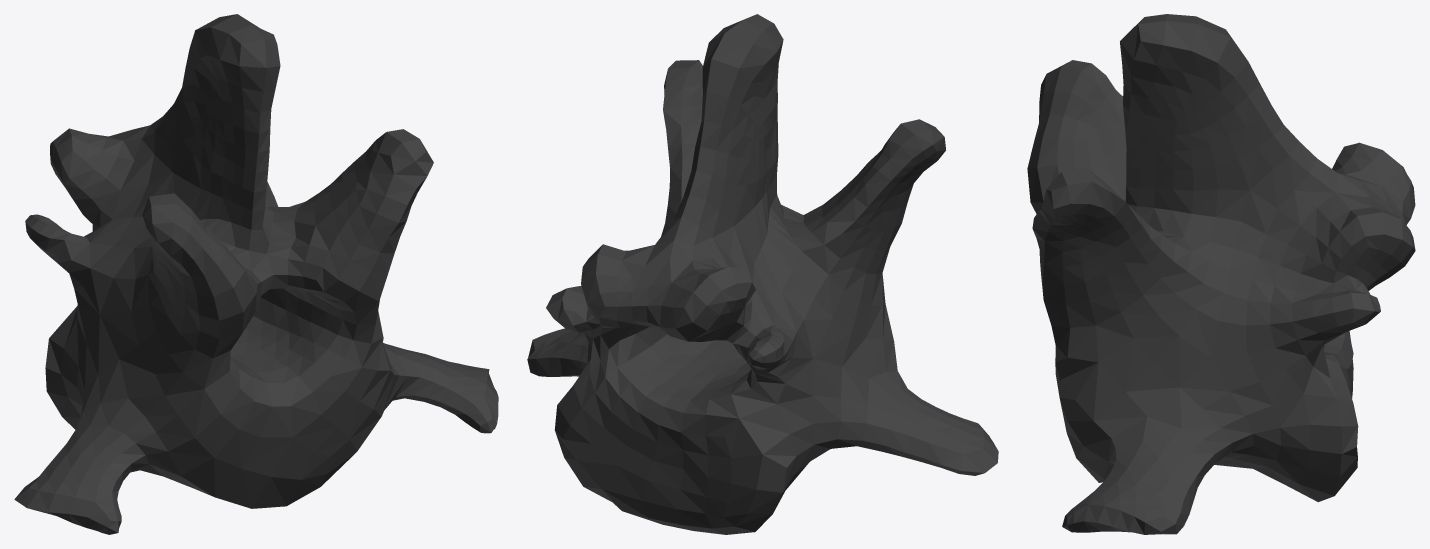
3 views of the same model, side by side, from view 1: azimuth 30°, elevation 25°; view 2: azimuth 150°, elevation 25°; view 3: azimuth 270°, elevation 25° (orthographic). The views are drawn at different scales.
Parts seen in each view (by area): view 1: L1; view 2: L1; view 3: L1.
Boxes of the visible parts, left/top/right/bottom form: L1: left=14, top=14, right=498, bottom=534; L1: left=527, top=14, right=998, bottom=534; L1: left=1027, top=14, right=1415, bottom=534.
Size of the model in its own units: 3.07 by 2.88 by 2.2.
Materials: 1 (1 with a texture image).
